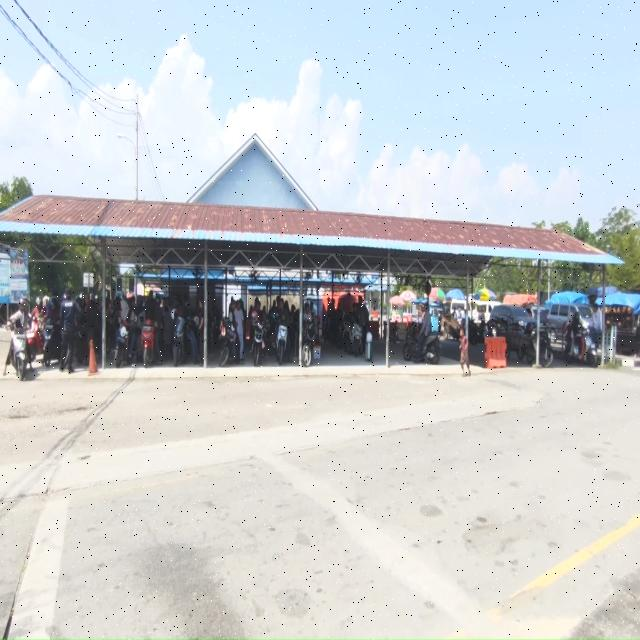Golongan II: (402, 326, 440, 364), (518, 327, 553, 368), (565, 327, 597, 368), (11, 321, 28, 381), (127, 310, 146, 362), (42, 320, 62, 368), (141, 320, 161, 368), (219, 318, 236, 367), (26, 317, 44, 362), (302, 320, 318, 367), (114, 322, 129, 368), (173, 316, 186, 367), (251, 320, 265, 366), (75, 320, 88, 365), (276, 324, 288, 365), (338, 318, 352, 352), (349, 322, 362, 357)
